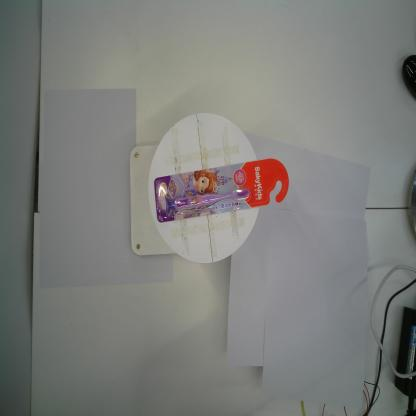Personal Hygiene: (153, 158, 289, 222)
